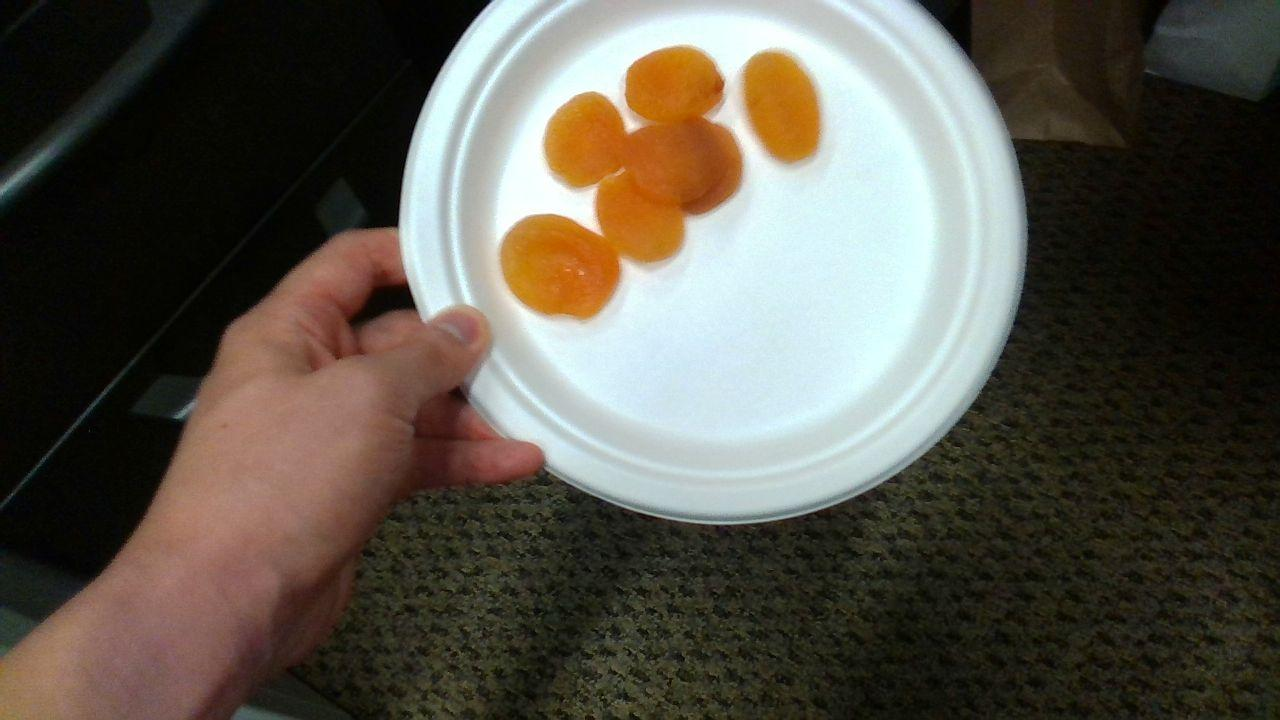apricot: (500, 214, 621, 316), (626, 117, 743, 216), (745, 52, 819, 162), (545, 93, 624, 189), (627, 47, 722, 121)
plate: (401, 1, 1025, 523)
